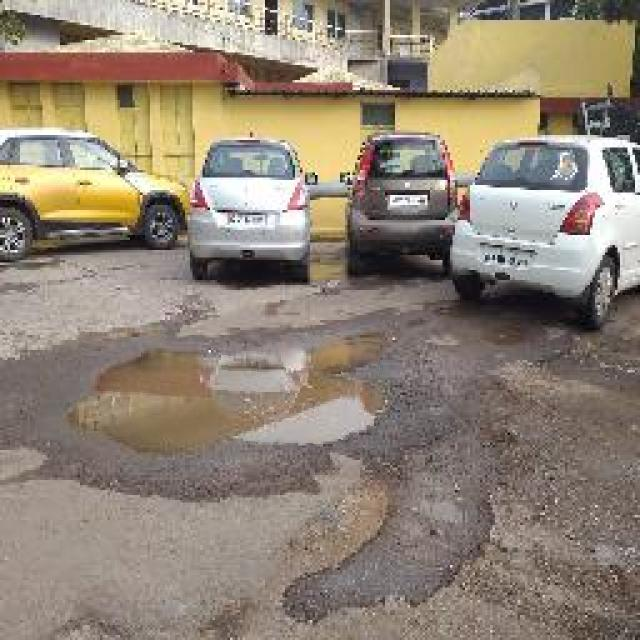puddle: (77, 335, 380, 446)
